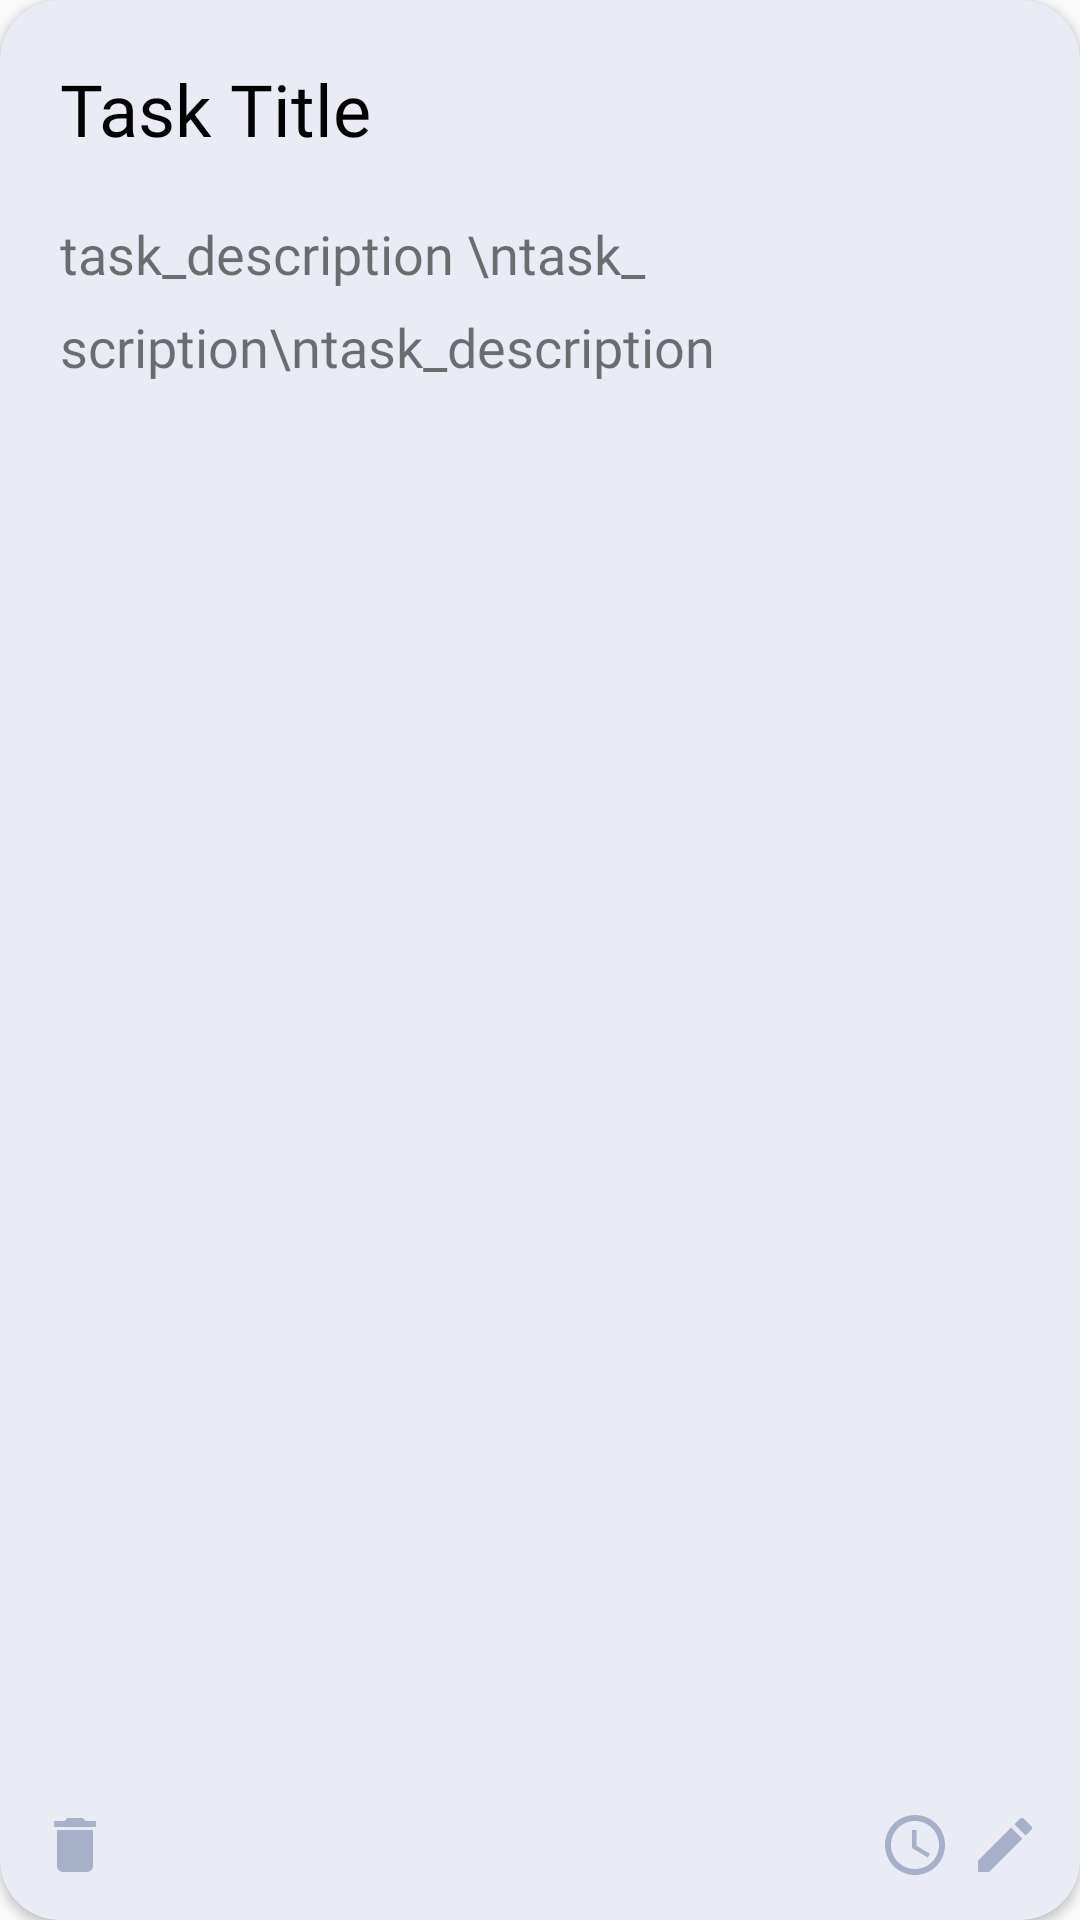

Named icons in this screenshot (1080px×1920px) and their centers, (x=x, y=y):
edit: (x=1005, y=1845)
time: (x=915, y=1845)
